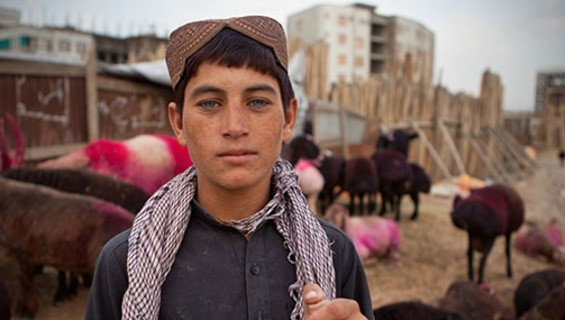face_no_mask: (171, 28, 291, 189)
